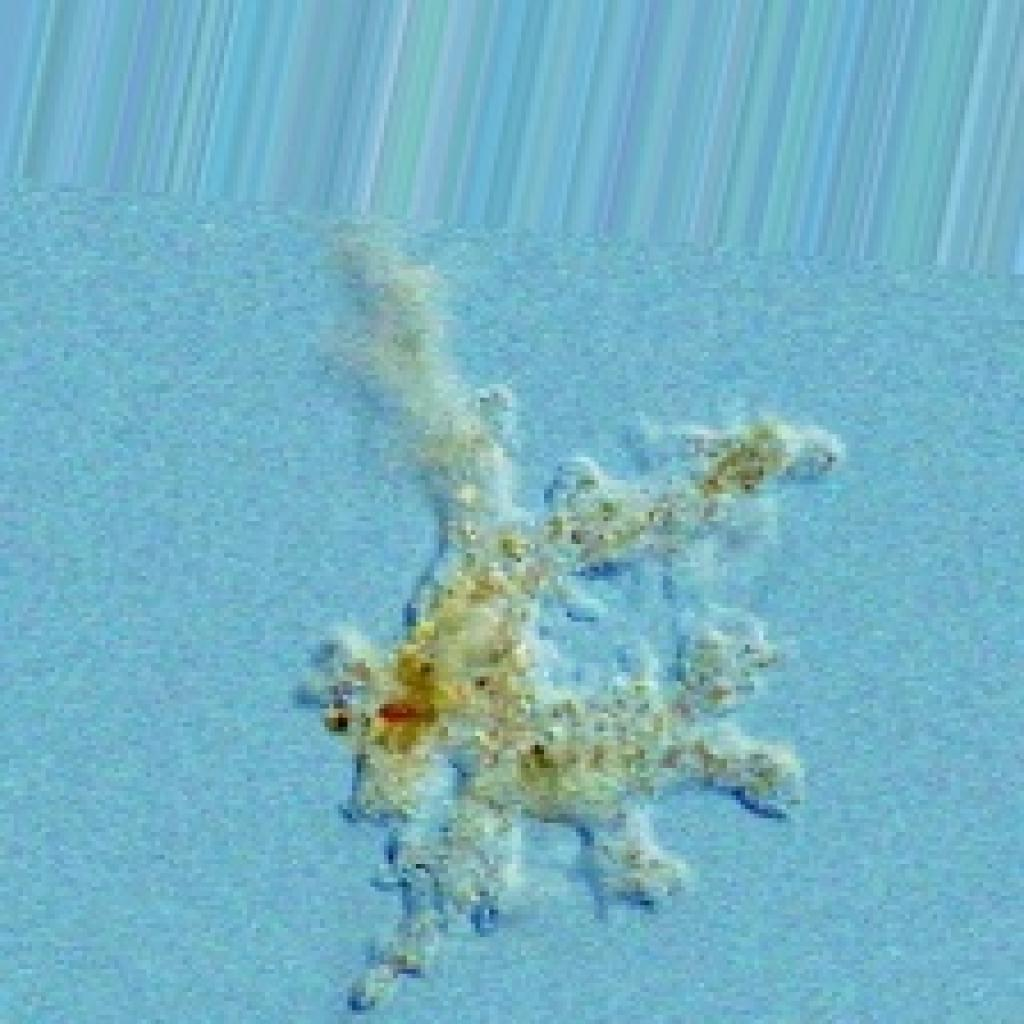Amoeba: (288, 210, 846, 1015)
